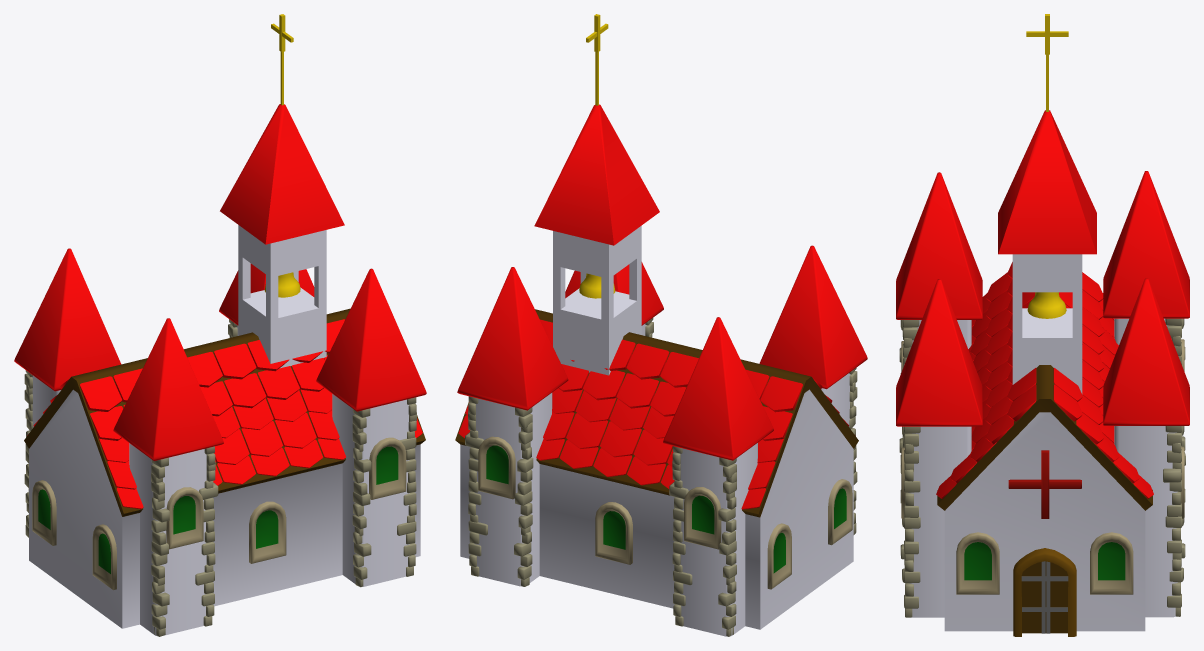
File: Church_RedTeam.fbx
The picture shows the model from 3 angles, left to right: view 1: azimuth 30°, elevation 25°; view 2: azimuth 150°, elevation 25°; view 3: azimuth 270°, elevation 25°; orthographic projection. The views are drawn at different scales.
Parts seen in each view (by area): view 1: Church_RedTeam; view 2: Church_RedTeam; view 3: Church_RedTeam.
Boxes of the visible parts, left/top/right/bottom form: Church_RedTeam: left=14, top=14, right=426, bottom=636; Church_RedTeam: left=455, top=14, right=867, bottom=636; Church_RedTeam: left=896, top=14, right=1189, bottom=636.
Size of the model in its own units: 3349 by 5407 by 2531.
